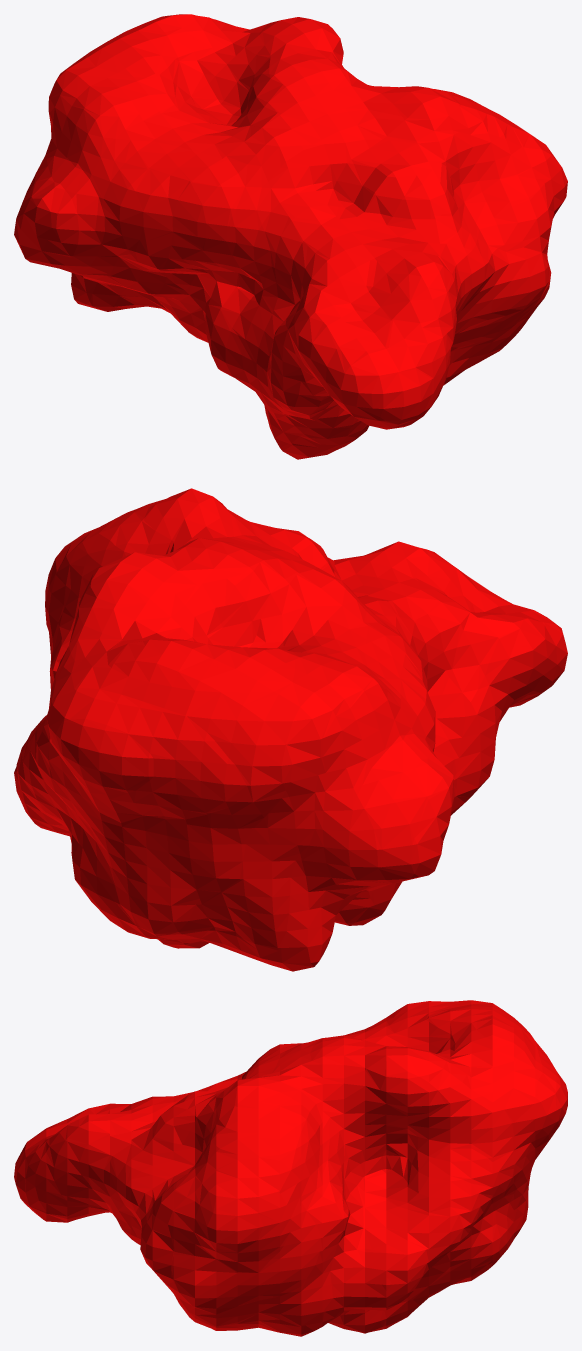
File: ubiH_coarse.dae
3 renders of one model, top to bottom at view 1: azimuth 30°, elevation 25°; view 2: azimuth 150°, elevation 25°; view 3: azimuth 270°, elevation 25°, orthographic. The views are drawn at different scales.
Visible parts, largest first — view 1: ubiH; view 2: ubiH; view 3: ubiH.
Boxes of the visible parts, bbox=[...] form: ubiH: bbox=[14, 14, 567, 459]; ubiH: bbox=[14, 488, 567, 971]; ubiH: bbox=[14, 1000, 567, 1336].
Bounding box in the file's own units: 64.65 × 49.37 × 79.97.
